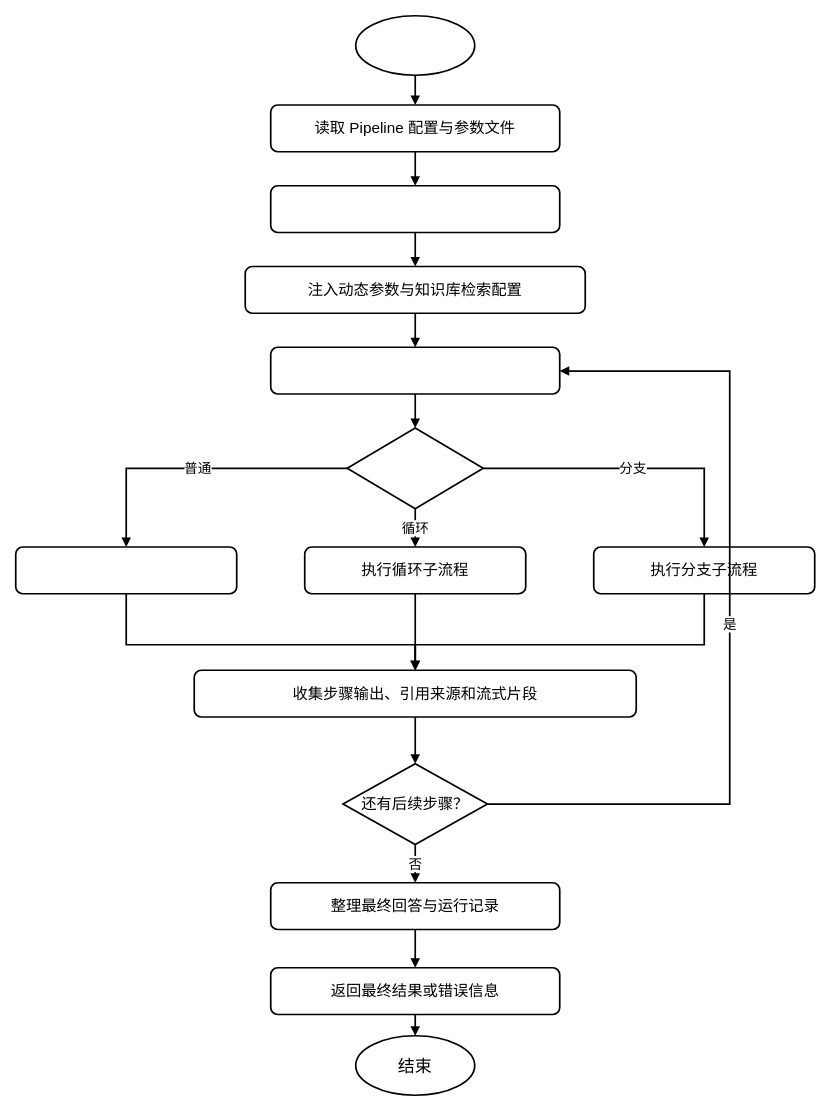
This 830x1110 diagram has some shape labels left out. The centre of each missing label's shape, as x and y in pixels:
创建 MCP Client 与执行上下文: the point at 414,208
开始: the point at 414,45
执行普通工具步骤: the point at 125,570
步骤类型？: the point at 415,468
遍历 Pipeline 步骤: the point at 414,370
